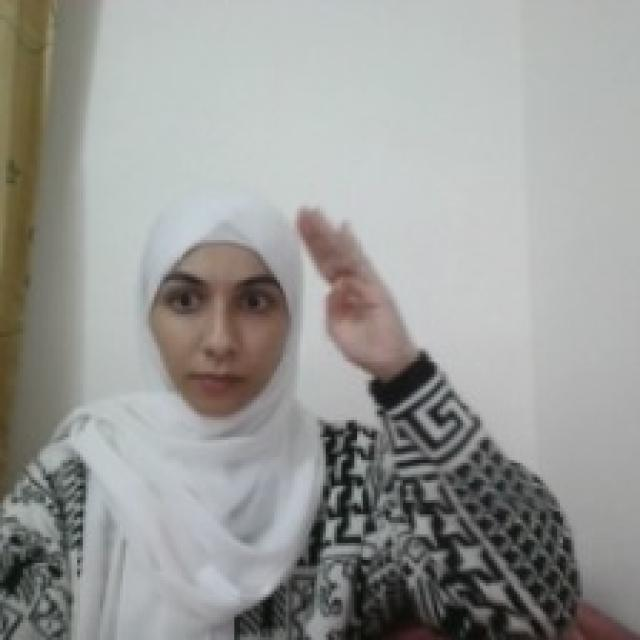Thanks: (293, 198, 410, 380)
